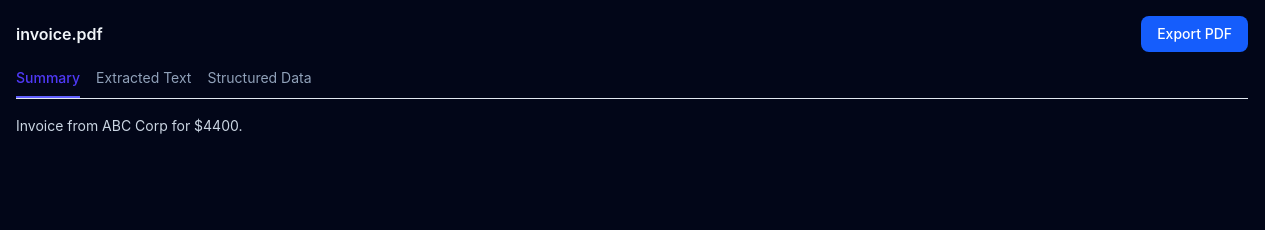
Test: DocumentDetail › switches to structured data tab and formats JSON
Click the button "Structured Data".
click(260, 83)  # box [207,68,312,98]
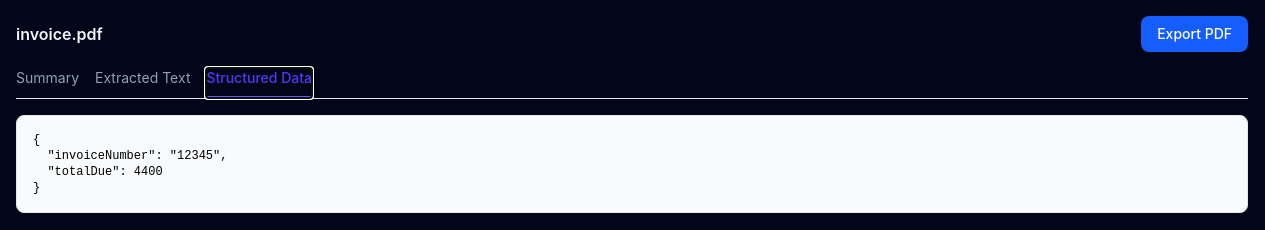
Expected: the text "{ \"invoiceNumber\": \"12345\", \"totalDue\": 4400 }" is shown, [16,115,1248,213]
